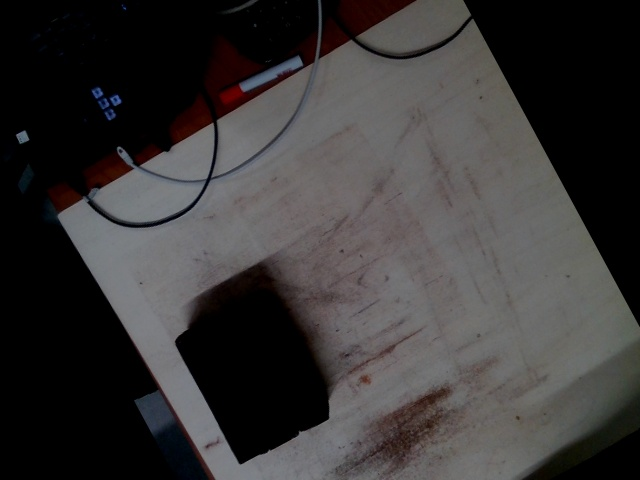brick-side: (235, 293, 326, 428), (175, 328, 266, 462), (205, 311, 296, 445)
